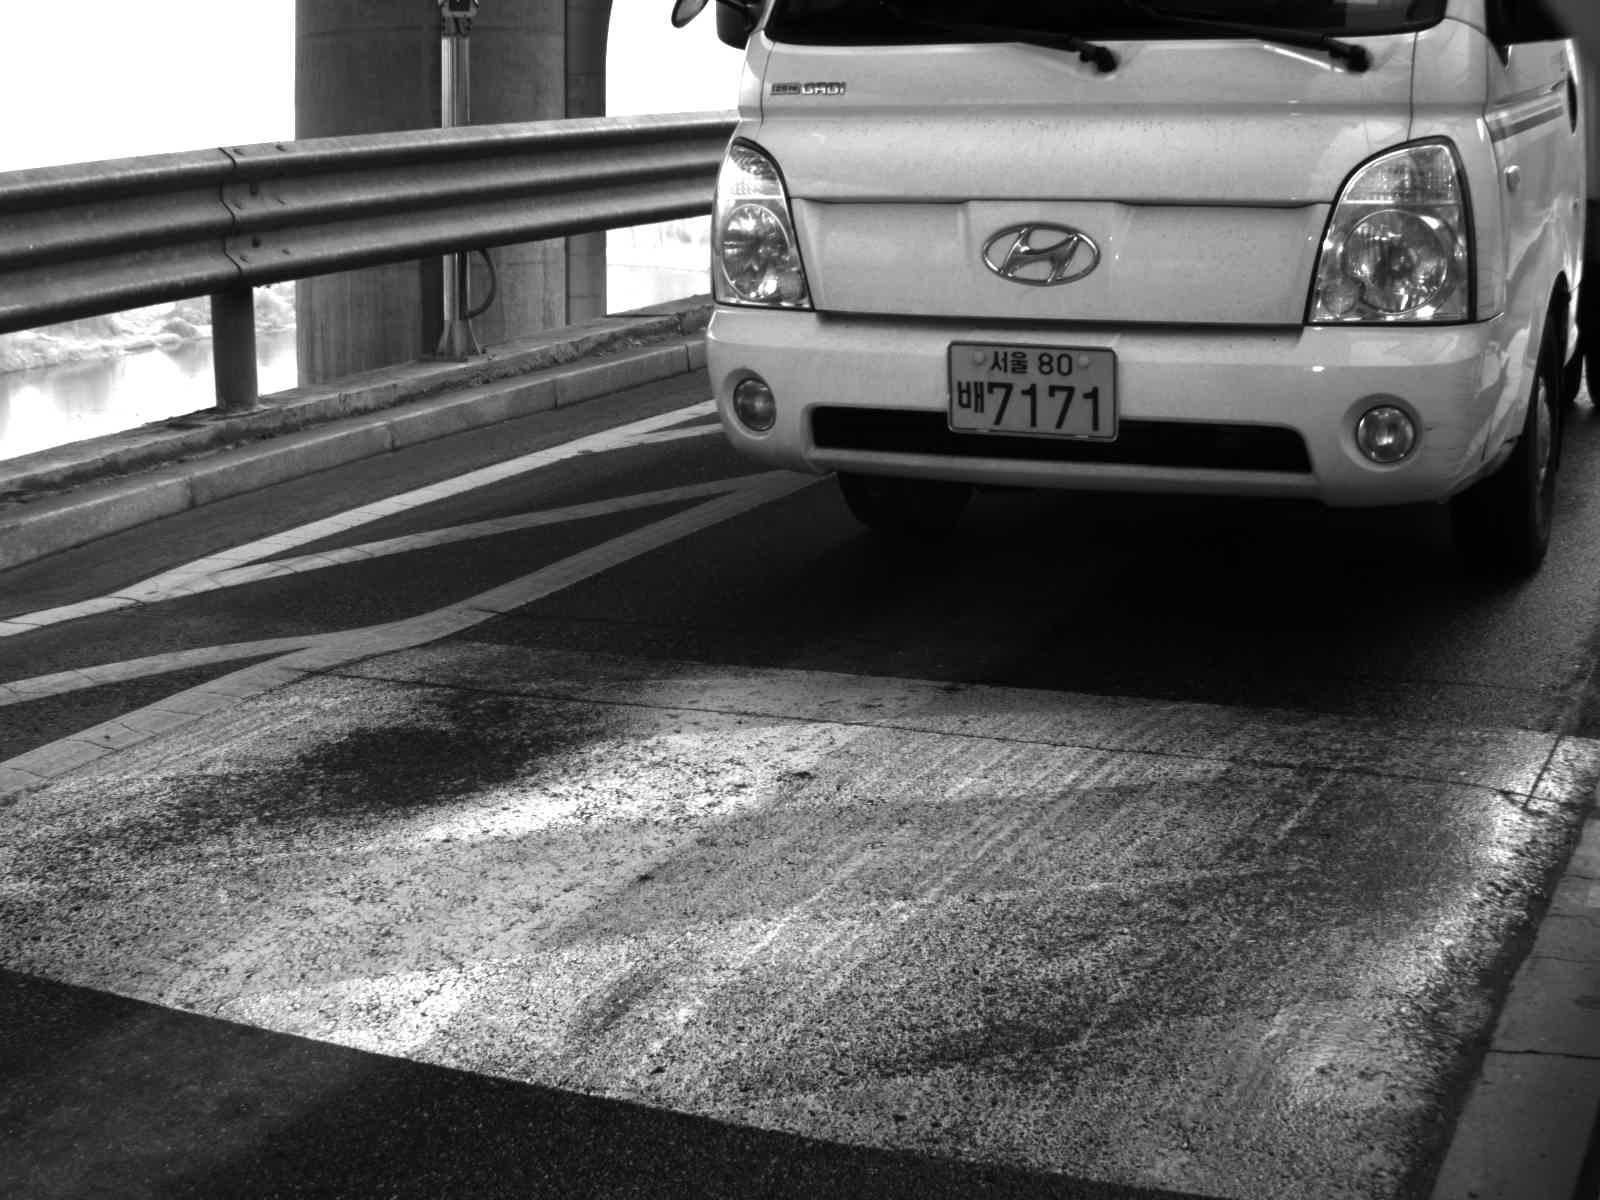P3_서울80배7171: (935, 338, 1151, 450)
